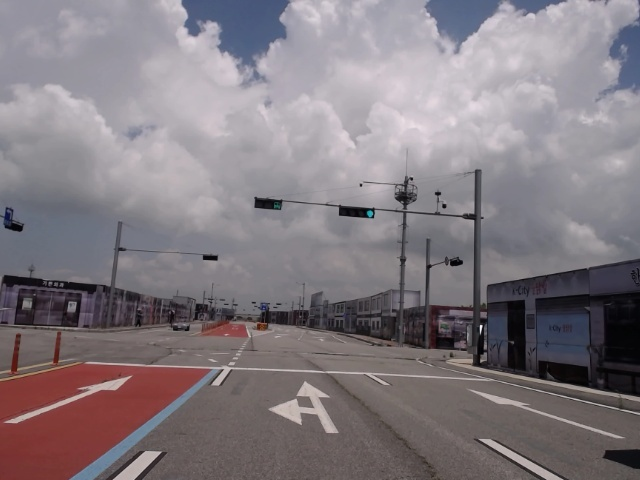straight_green_4: (341, 204, 377, 220)
